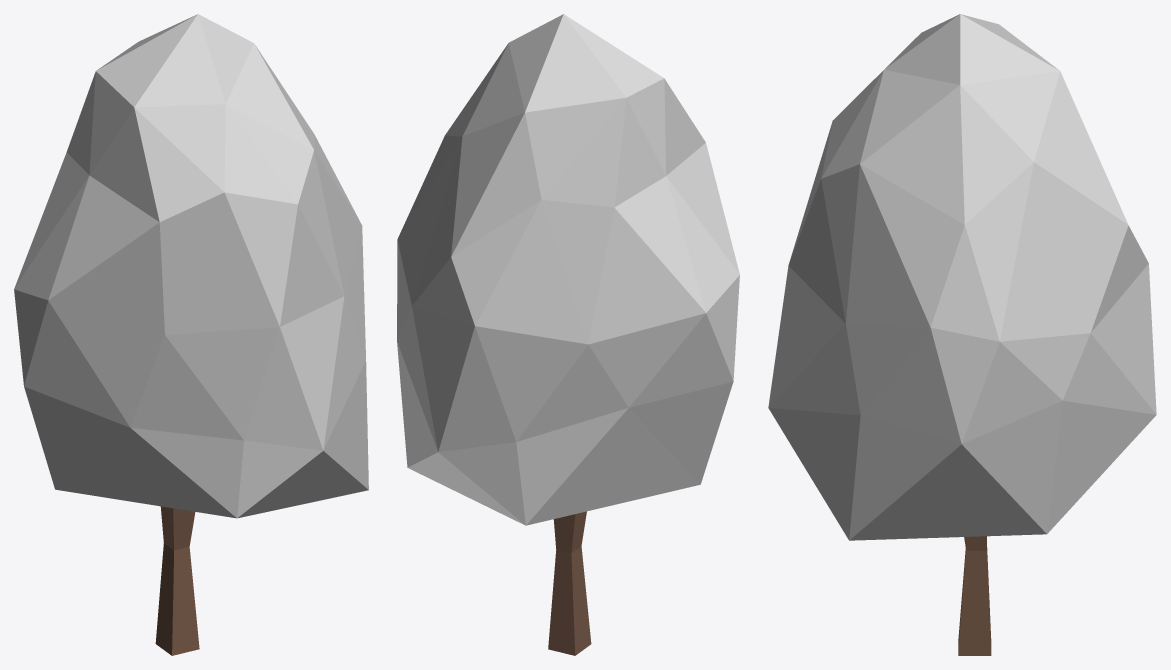
The model's file is Tree_56_White.fbx.
The picture shows the model from 3 angles, left to right: view 1: azimuth 30°, elevation 25°; view 2: azimuth 150°, elevation 25°; view 3: azimuth 270°, elevation 25°; orthographic projection. The views are drawn at different scales.
Parts seen in each view (by area): view 1: Tree_56_White_Part_1, Tree_56_White_Part_2; view 2: Tree_56_White_Part_1, Tree_56_White_Part_2; view 3: Tree_56_White_Part_1, Tree_56_White_Part_2.
Boxes of the visible parts, left/top/right/bottom form: Tree_56_White_Part_1: left=14, top=14, right=368, bottom=518; Tree_56_White_Part_2: left=155, top=506, right=199, bottom=655; Tree_56_White_Part_1: left=397, top=14, right=739, bottom=525; Tree_56_White_Part_2: left=548, top=511, right=591, bottom=655; Tree_56_White_Part_1: left=768, top=14, right=1156, bottom=540; Tree_56_White_Part_2: left=958, top=536, right=991, bottom=655.
Bounding box in the file's own units: 336 × 599 × 329.
